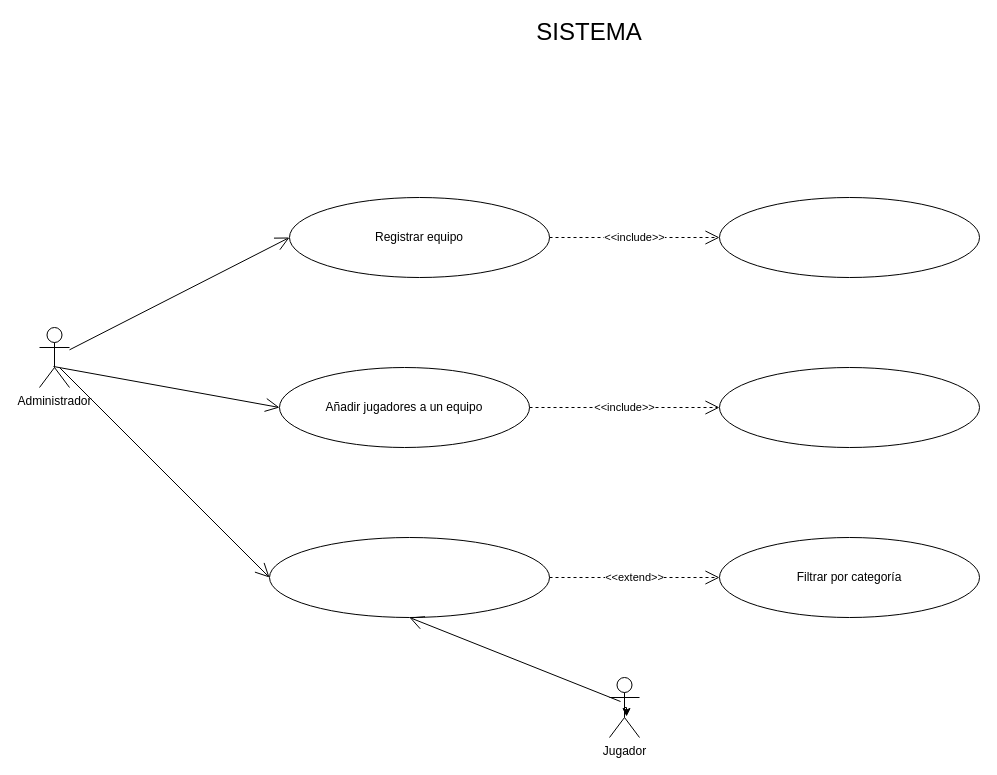
The diagram is 997 pixels wide and 775 high, and some of its shapes have lost their labels. Here are the shapes that lost their labels. From the top down, the centre of each, then its label:
(849,237): Validar datos de equipo
(849,407): Validar disponibilidad del jugador
(409,577): Consultar lista de equipos y jugadores
